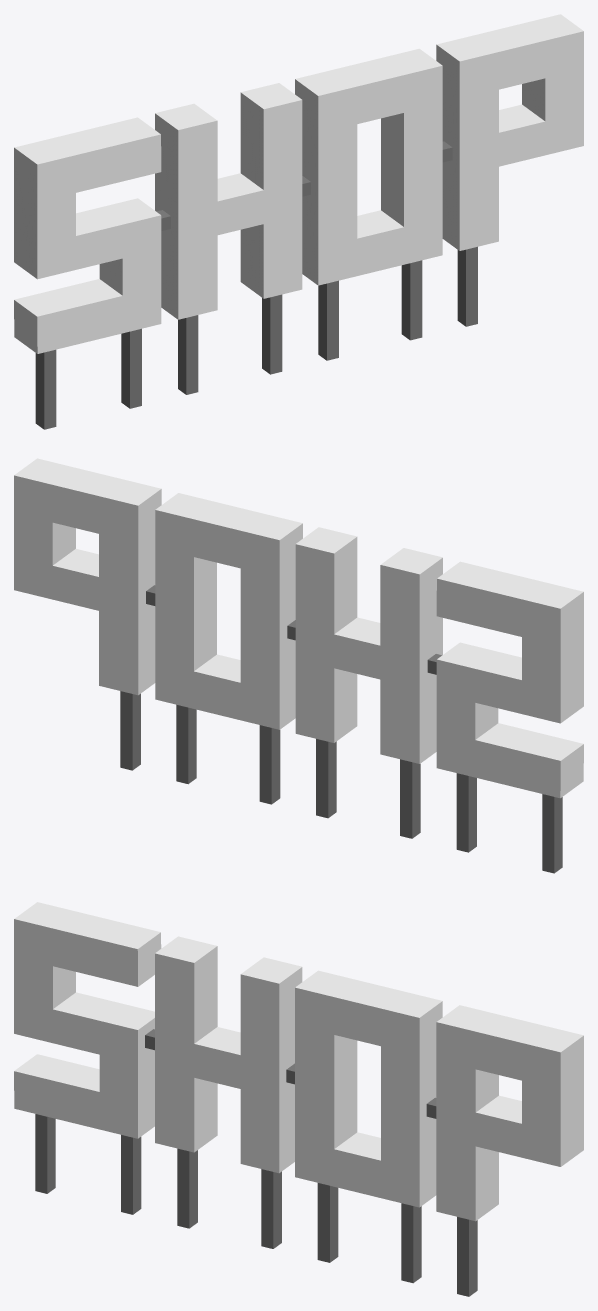
The model's file is SM_Shopsign_01.FBX.
3 views of the same model, one above another, from view 1: azimuth 30°, elevation 25°; view 2: azimuth 150°, elevation 25°; view 3: azimuth 330°, elevation 25° (orthographic).
Parts seen in each view (by area): view 1: SM_Shopsign_01; view 2: SM_Shopsign_01; view 3: SM_Shopsign_01.
Boxes of the visible parts, bbox=[...] form: SM_Shopsign_01: bbox=[14, 14, 583, 429]; SM_Shopsign_01: bbox=[14, 458, 583, 873]; SM_Shopsign_01: bbox=[14, 902, 583, 1296].
Bounding box in the file's own units: 3.22 × 1.54 × 0.2373.
1 material, 1 textured.
